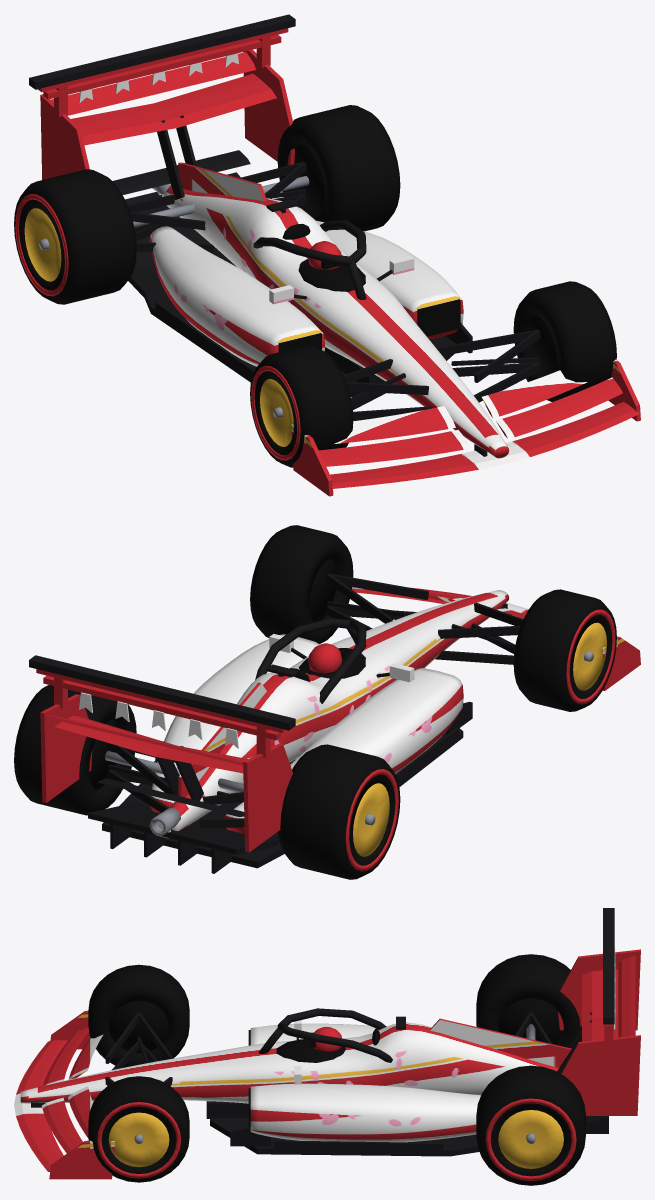
The model's file is sakura_b.fbx.
3 views of the same model, one above another, from view 1: azimuth 30°, elevation 25°; view 2: azimuth 150°, elevation 25°; view 3: azimuth 270°, elevation 25° (orthographic). The views are drawn at different scales.
Parts seen in each view (by area): view 1: Body, Trim, Wheel_RL, Wheel_RR, Wheel_FL, Wheel_FR, Acc; view 2: Body, Trim, Wheel_RL, Wheel_FL, Wheel_FR, Acc, Wheel_RR; view 3: Body, Trim, Wheel_RR, Wheel_FR, Wheel_FL, Wheel_RL, Acc.
Part boxes in pixels (bbox=[...]): Body: bbox=[40, 49, 640, 496]; Trim: bbox=[112, 115, 540, 456]; Wheel_RL: bbox=[14, 169, 136, 304]; Wheel_RR: bbox=[277, 105, 400, 231]; Wheel_FL: bbox=[250, 345, 353, 467]; Wheel_FR: bbox=[513, 281, 616, 401]; Acc: bbox=[29, 14, 295, 116]; Body: bbox=[40, 587, 640, 852]; Trim: bbox=[88, 573, 523, 873]; Wheel_RL: bbox=[278, 744, 400, 879]; Wheel_FL: bbox=[513, 589, 616, 711]; Wheel_FR: bbox=[250, 525, 353, 643]; Acc: bbox=[29, 655, 295, 757]; Wheel_RR: bbox=[14, 685, 136, 815]; Body: bbox=[14, 949, 640, 1179]; Trim: bbox=[31, 1008, 608, 1156]; Wheel_RR: bbox=[476, 1065, 585, 1185]; Wheel_FR: bbox=[88, 1076, 189, 1182]; Wheel_FL: bbox=[88, 964, 189, 1067]; Wheel_RL: bbox=[476, 954, 580, 1047]; Acc: bbox=[603, 908, 615, 1043].
Size of the model in its own units: 9.81 by 5.11 by 18.55.
4 materials, 1 textured.
